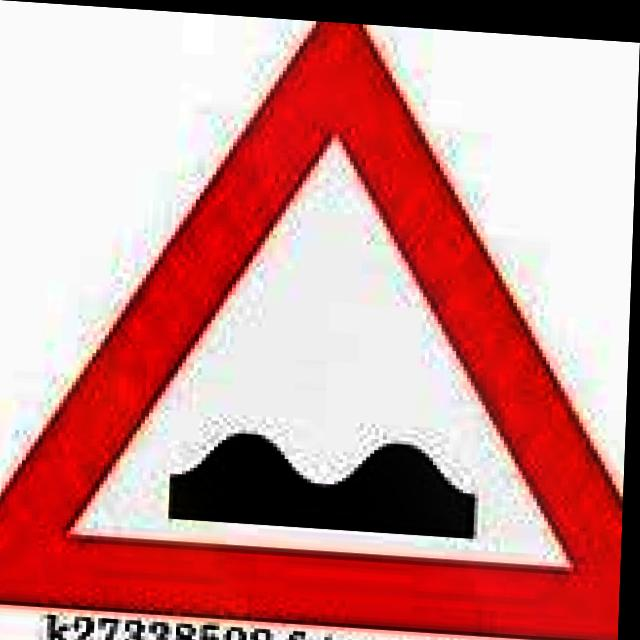BUMPS: (0, 0, 640, 637)
